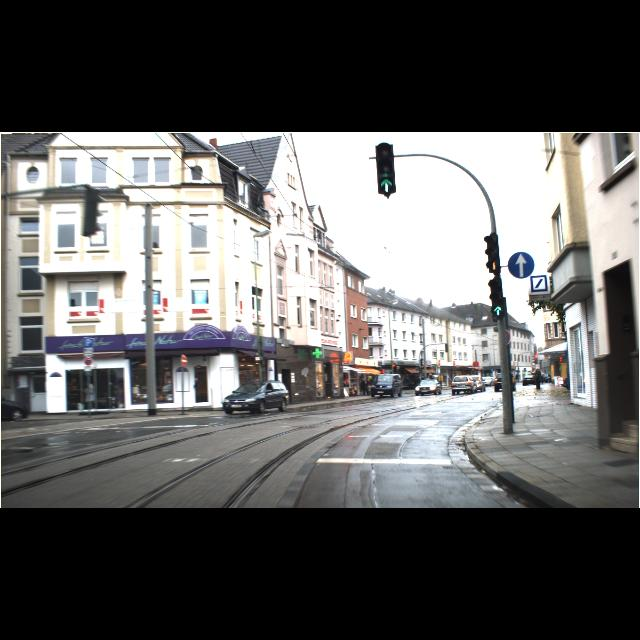mandatory: (508, 252, 534, 278)
other: (180, 354, 188, 368)
